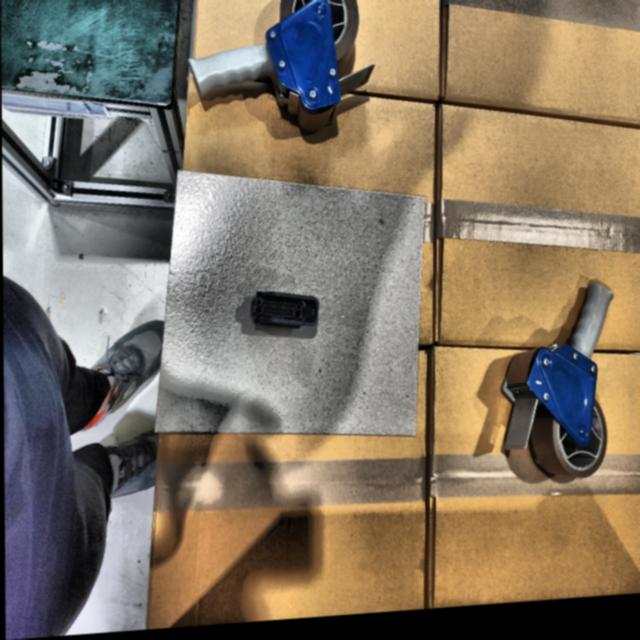P38: (249, 295, 317, 334)
